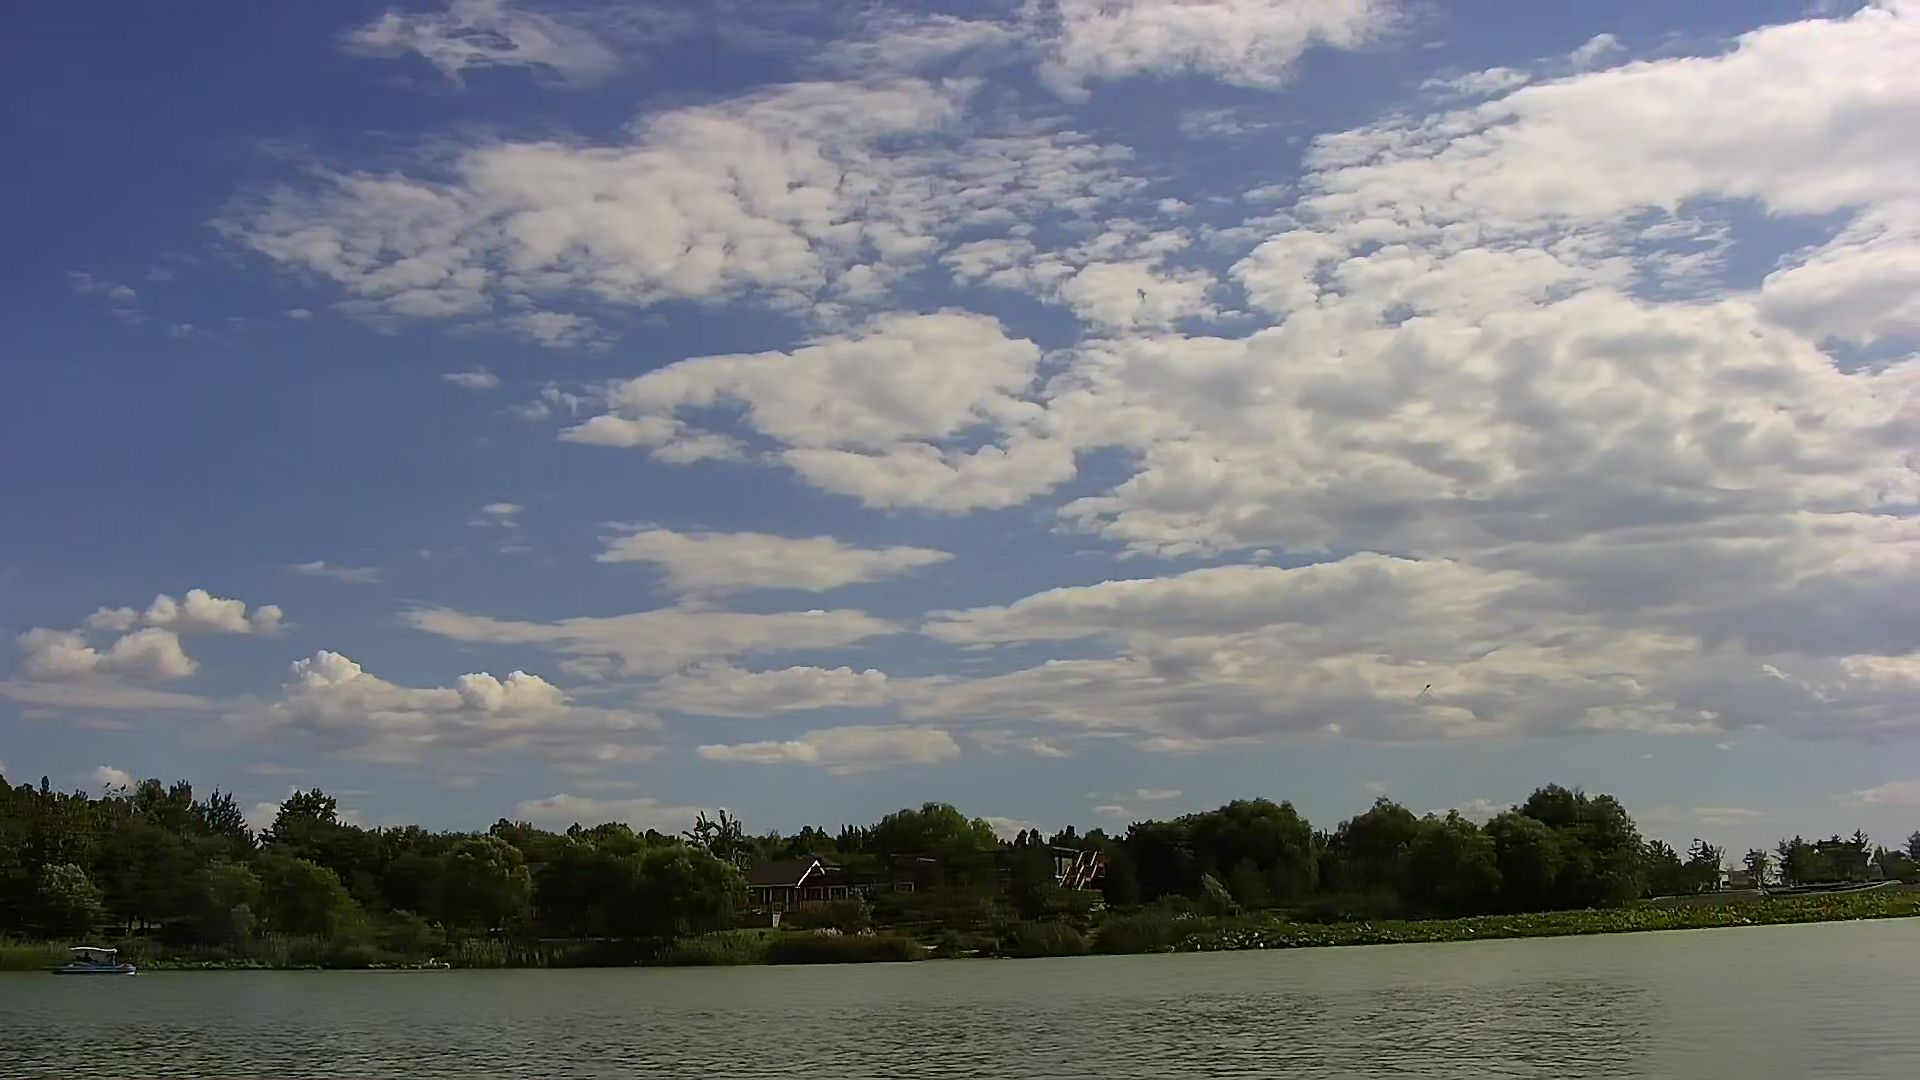boat: (47, 940, 142, 993)
